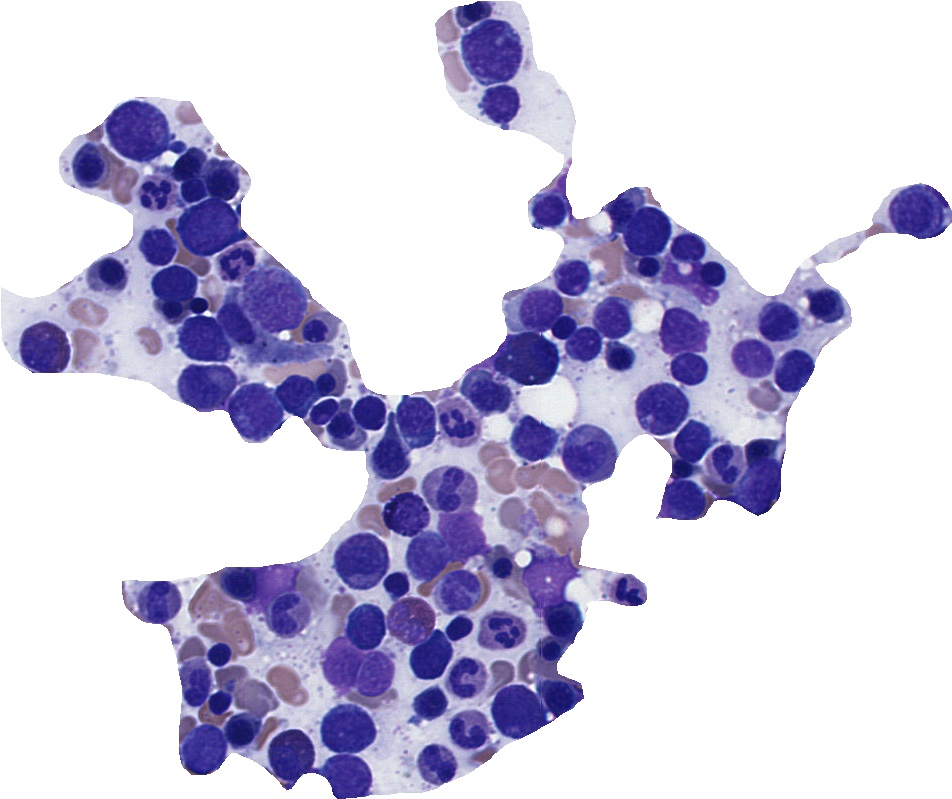objectness: (381, 489, 431, 539), (434, 566, 484, 616), (129, 170, 179, 220), (445, 704, 495, 754), (479, 608, 529, 658), (699, 438, 749, 488), (600, 565, 650, 615), (432, 398, 482, 448), (209, 235, 259, 285), (441, 654, 491, 704), (561, 431, 611, 481), (337, 535, 387, 585), (638, 380, 688, 430), (16, 322, 66, 372), (505, 331, 555, 381), (385, 593, 435, 643), (265, 728, 315, 778), (423, 465, 473, 515), (171, 659, 221, 709), (132, 576, 182, 626), (409, 741, 459, 791), (262, 588, 312, 638), (179, 725, 229, 775), (468, 28, 518, 78), (624, 207, 674, 257), (736, 458, 786, 508), (230, 384, 280, 434), (321, 705, 371, 755), (174, 311, 224, 361), (112, 102, 162, 152), (182, 199, 232, 249), (494, 686, 544, 736), (657, 442, 707, 492), (689, 247, 739, 297), (668, 416, 718, 466), (547, 251, 597, 301), (131, 220, 181, 270), (162, 141, 212, 191), (664, 258, 714, 308), (656, 308, 706, 358), (735, 426, 785, 476), (166, 163, 216, 213), (150, 255, 200, 305), (727, 333, 777, 383), (272, 369, 322, 419), (347, 390, 397, 440), (210, 296, 260, 346), (348, 654, 398, 704), (193, 628, 243, 678), (195, 678, 245, 728), (300, 387, 350, 437), (509, 285, 559, 335), (476, 77, 526, 127), (340, 604, 390, 654), (373, 562, 423, 612), (251, 273, 301, 323), (437, 510, 487, 560), (434, 602, 484, 652), (664, 471, 714, 521), (405, 634, 455, 684), (540, 301, 590, 351), (525, 556, 575, 606), (310, 642, 360, 692), (590, 293, 640, 343), (174, 365, 224, 415), (753, 298, 803, 348), (662, 223, 712, 273), (769, 346, 819, 396), (557, 320, 607, 370), (524, 186, 574, 236), (508, 417, 558, 467), (400, 531, 450, 581), (197, 151, 247, 201), (478, 541, 528, 591), (533, 669, 583, 719), (405, 678, 455, 728), (83, 251, 133, 301), (622, 243, 672, 293), (216, 707, 266, 757), (318, 403, 368, 453), (147, 285, 197, 335), (304, 359, 354, 409), (211, 558, 261, 608), (598, 187, 648, 237), (294, 302, 344, 352), (596, 334, 646, 384), (537, 594, 587, 644), (392, 396, 442, 446), (800, 280, 850, 330), (364, 430, 414, 480), (462, 371, 512, 421), (524, 623, 574, 673), (64, 140, 114, 190), (890, 187, 940, 237), (449, 0, 499, 37)
